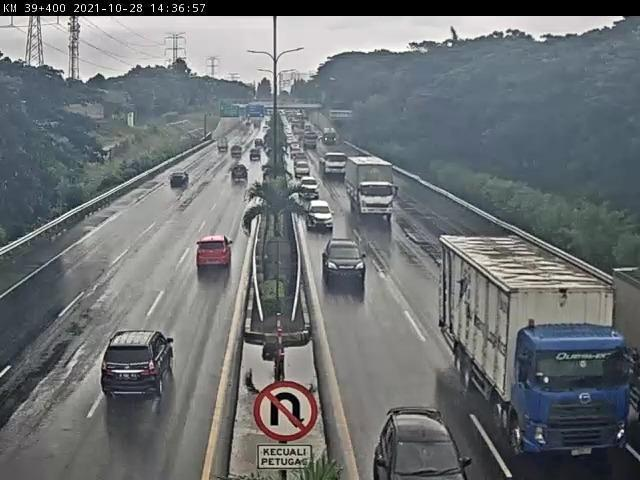car: (383, 382, 463, 472), (95, 329, 183, 394), (185, 228, 235, 288), (334, 239, 366, 293), (312, 190, 331, 229), (167, 172, 191, 194), (228, 173, 248, 194), (302, 175, 317, 188)
truck: (525, 323, 638, 468), (349, 155, 389, 223), (321, 151, 343, 171)
